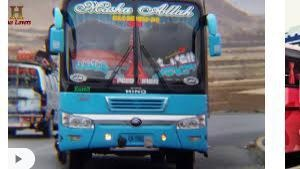bus: (48, 1, 220, 169)
